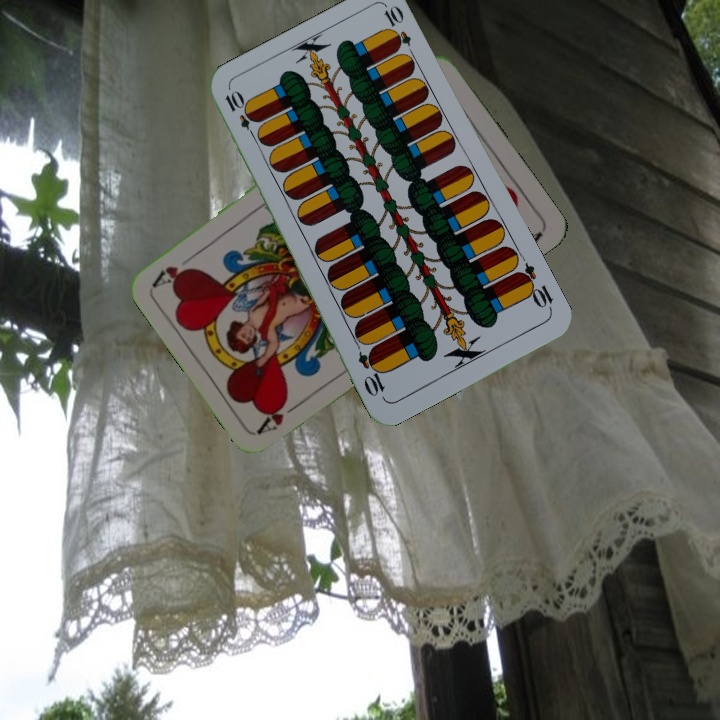E10: (512, 259, 556, 314), (220, 87, 261, 142)
HA: (254, 392, 307, 437)
